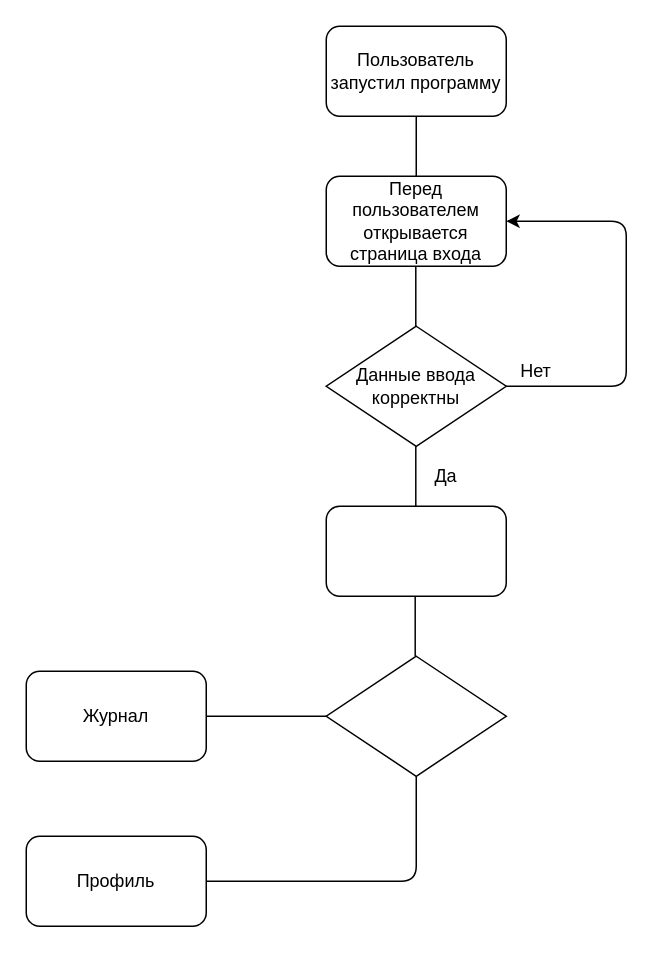
The diagram is 665 pixels wide and 953 high, and some of its shapes have lost their labels. Each missing label, with the box of its shape:
Выбор вкладки: (325, 655, 506, 776)
Открывается вкладка с расписанием на эту неделю: (325, 505, 506, 596)
